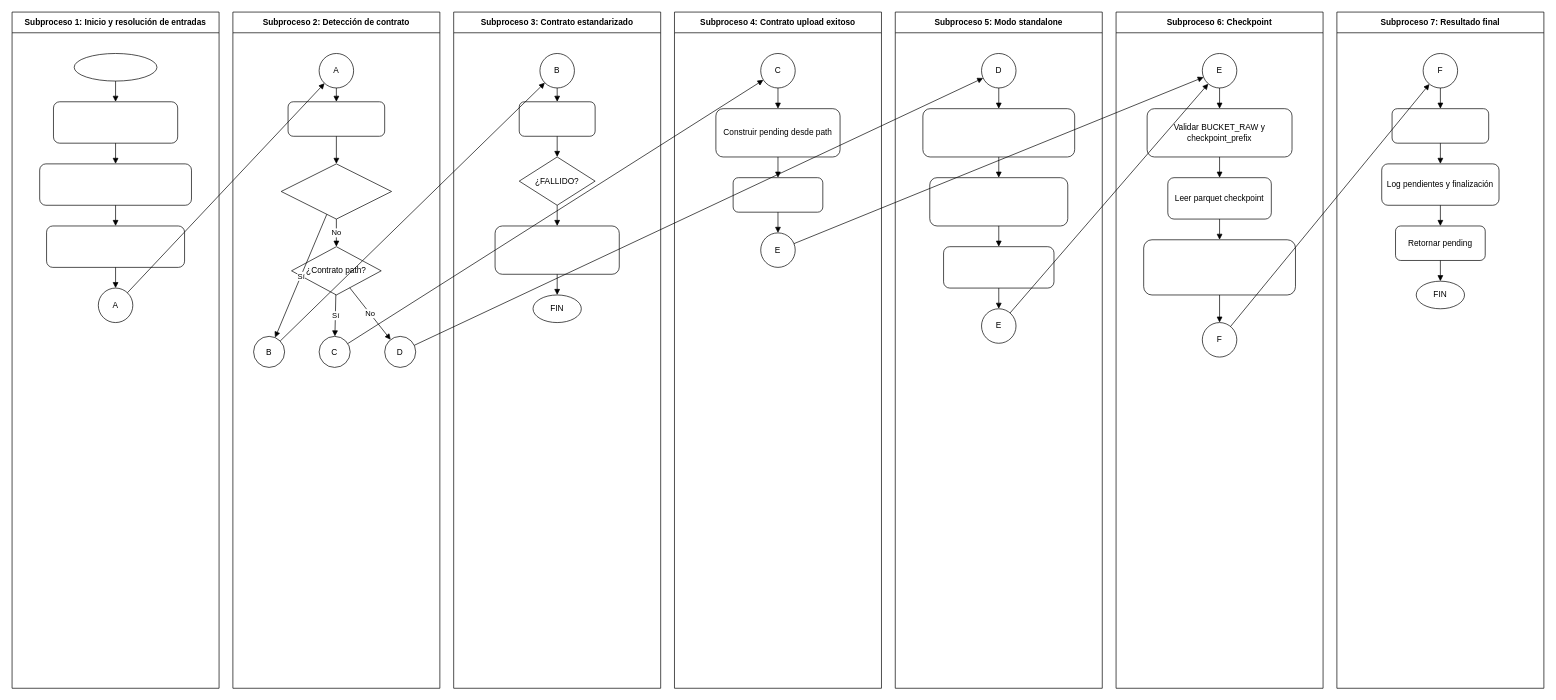
This 1556x700 diagram has some shape labels left out. The shapes that lost their labels are listed below. From the top down, each one's centre as x and y in pixels, then its label:
At pixel 115 67: "Inicio".
At pixel 115 122: "Inicializar logs y helpers".
At pixel 336 118: "Detectar columnas".
At pixel 557 118: "Leer estado".
At pixel 998 132: "Validar BUCKET_BLOB y relative_upload_file_path".
At pixel 1440 125: "Calcular total_pending".
At pixel 115 184: "Resolver upload_df y param_discovery_row".
At pixel 336 191: "¿Contrato estandarizado?".
At pixel 777 194: "Log contrato éxito".
At pixel 998 201: "Construir raw_path y leer binaryFile".
At pixel 115 246: "Extraer BUCKET_BLOB / BUCKET_RAW".
At pixel 556 249: "Retorno status o error sin paths".
At pixel 998 267: "Construir pending + log".
At pixel 1219 267: "Adaptar contrato y left_anti / fallback distinct".
